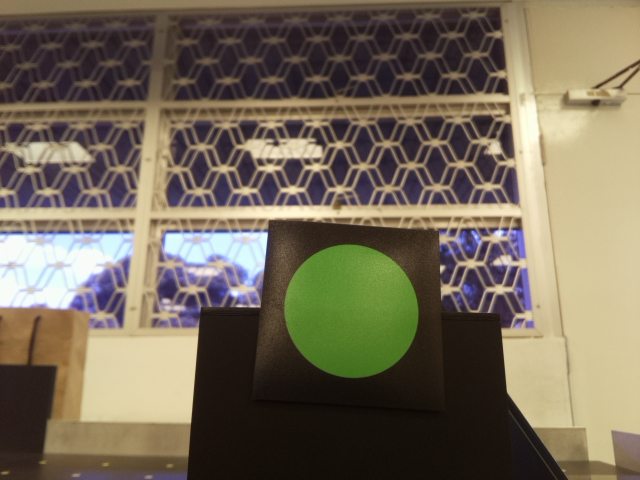go: (275, 239, 439, 385)
